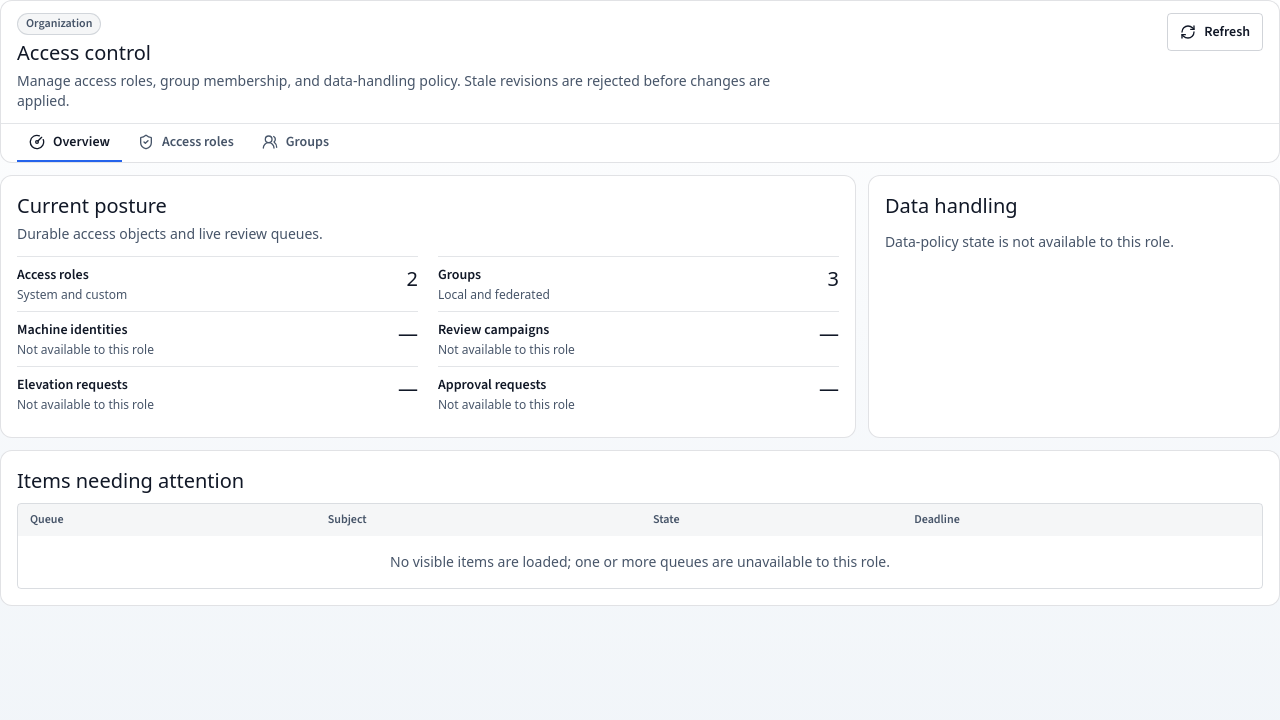
Test: AccessGovernancePage permission and policy workflows › keeps system and OIDC groups visibly immutable even with IAM write access
The width and height of the screenshot is (1280, 720).
Click the button "Groups" at [295, 143], box [250,124,341,162]
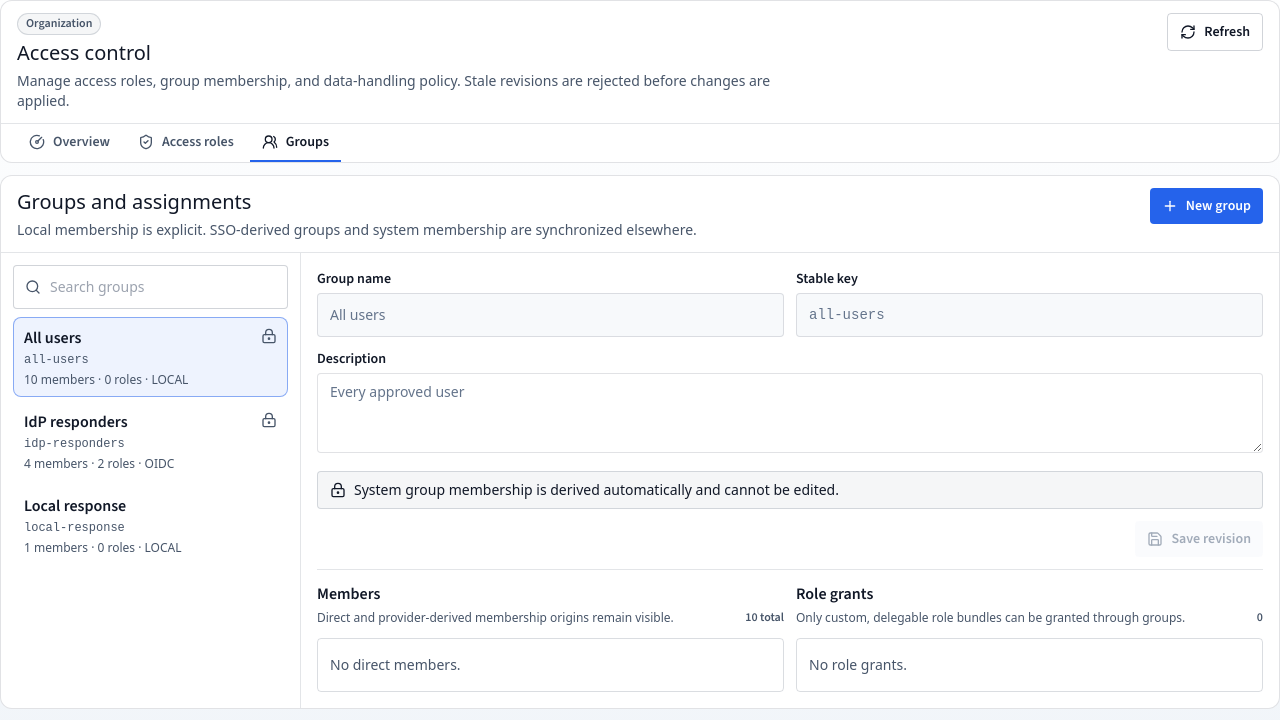
Expected: the number of icons named "Externally managed group" is 2, [261,328,277,344]; [261,412,277,428]
Expected: the text "System group membership is derived automatically and cannot be edited." is shown, [317,471,1263,509]
Expected: the element showing "Group name Stable key Description" is disabled, [317,269,1263,459]
Click the button "IdP responders idp-responders 4 members · 2 roles · OIDC" at [76, 422], box [13,401,288,481]
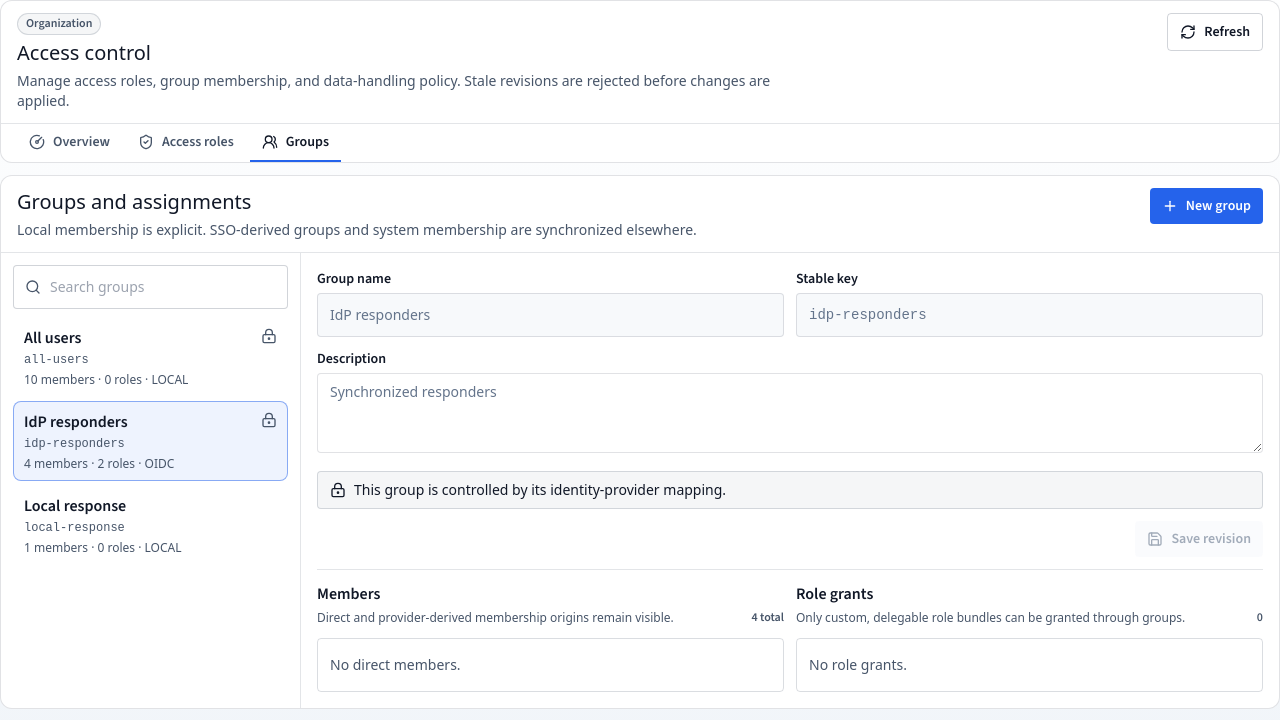
Expected: the element showing "Group name Stable key Description" is disabled, [317,269,1263,459]
Expected: the text "This group is controlled by its identity-provider mapping." is shown, [317,471,1263,509]
